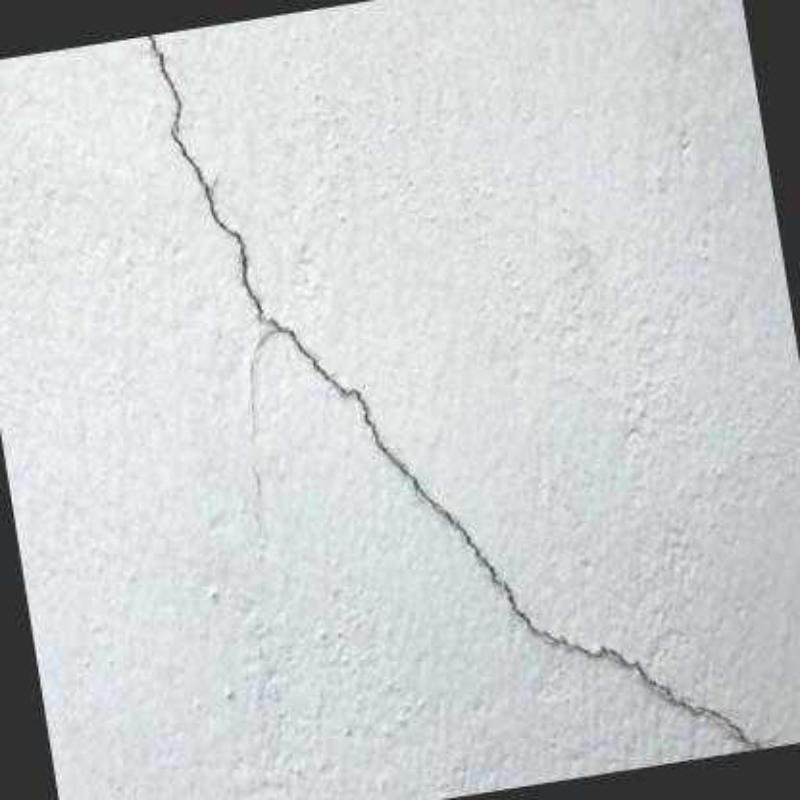pothole: (143, 34, 762, 750)
